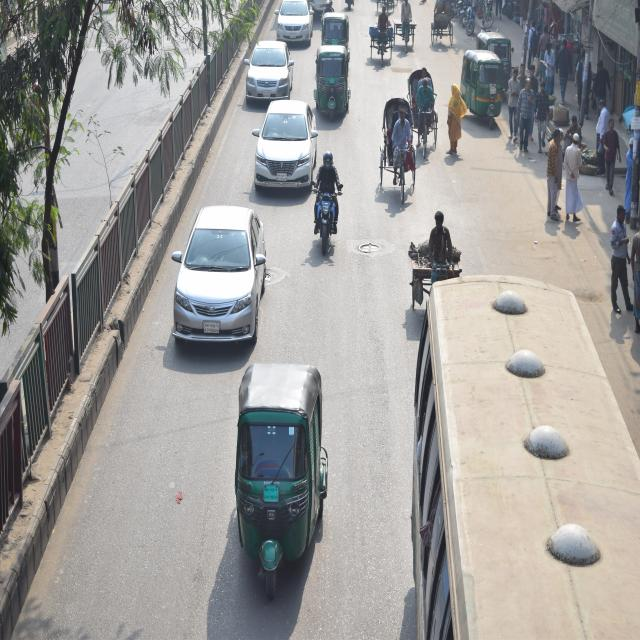car: (171, 194, 266, 352), (258, 98, 318, 194), (243, 36, 290, 103), (275, 0, 315, 51)
motorbike: (306, 175, 342, 252)
